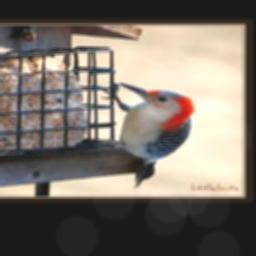Woodpecker: (97, 82, 193, 189)
